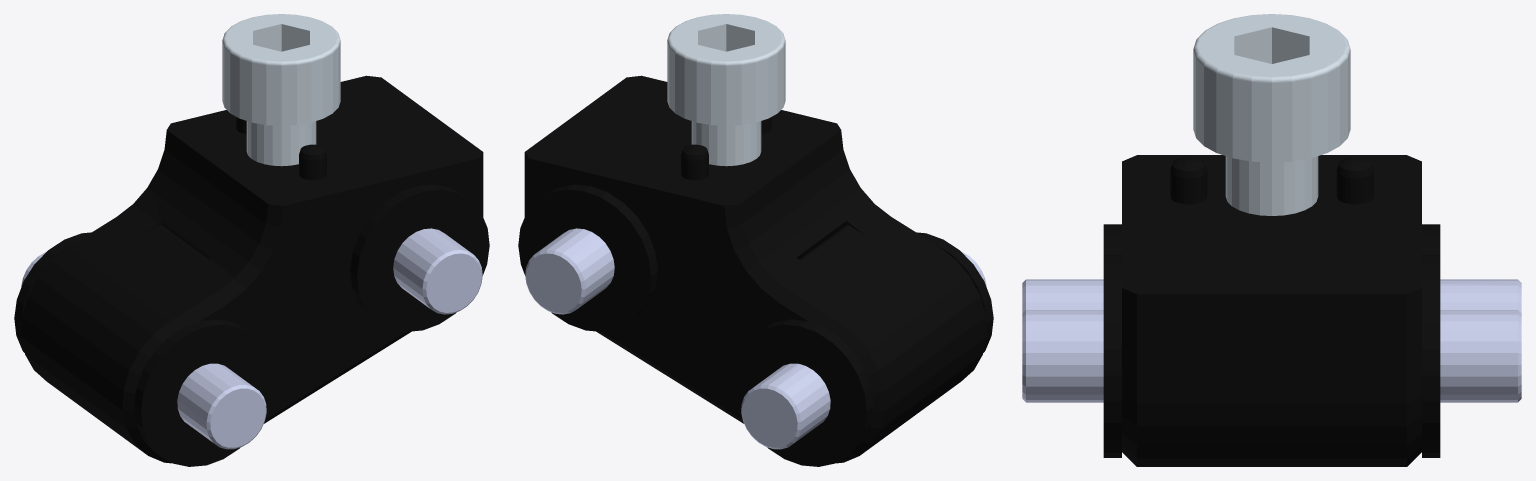
Rendered from left_inner_finger_Finger4_01_Finger4.obj.
3 renders of one model, left to right at view 1: azimuth 30°, elevation 25°; view 2: azimuth 150°, elevation 25°; view 3: azimuth 270°, elevation 25°, orthographic. The views are drawn at different scales.
Size of the model in its own units: 0.0299 by 0.028 by 0.027.
